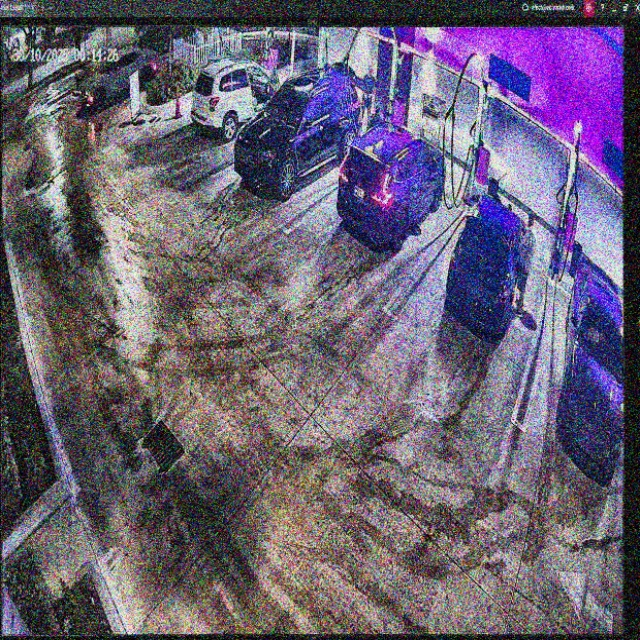Car: (235, 60, 360, 200), (340, 120, 445, 251), (444, 194, 531, 343)
